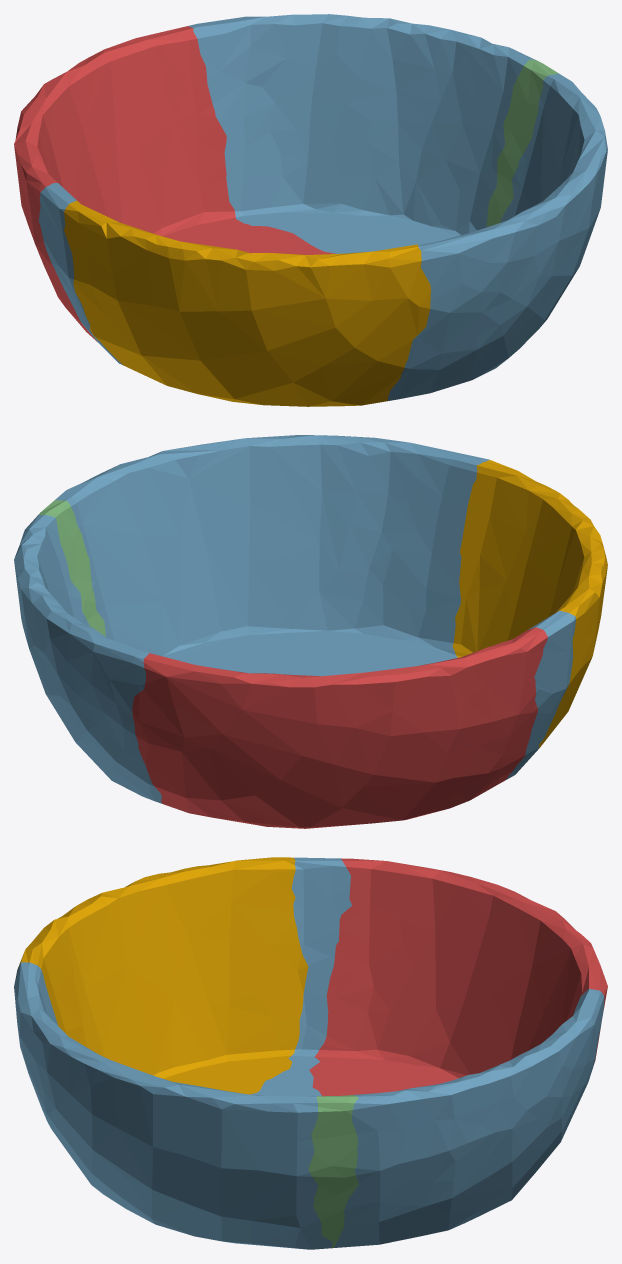
Rendered from fractured_2_4pcs.glb.
3 renders of one model, top to bottom at view 1: azimuth 30°, elevation 25°; view 2: azimuth 150°, elevation 25°; view 3: azimuth 270°, elevation 25°, orthographic.
Parts seen in each view (by area): view 1: piece_2.obj, piece_0.obj, piece_1.obj, piece_3.obj; view 2: piece_2.obj, piece_1.obj, piece_0.obj, piece_3.obj; view 3: piece_2.obj, piece_0.obj, piece_1.obj, piece_3.obj.
Boxes of the visible parts, x1,y1,x2,y2 form: piece_2.obj: (38, 14, 607, 401); piece_0.obj: (64, 200, 430, 406); piece_1.obj: (14, 26, 336, 342); piece_3.obj: (486, 59, 558, 227); piece_2.obj: (14, 435, 575, 803); piece_1.obj: (132, 627, 547, 828); piece_0.obj: (452, 460, 607, 748); piece_3.obj: (39, 500, 105, 636); piece_2.obj: (14, 857, 604, 1249); piece_0.obj: (18, 857, 308, 1094); piece_1.obj: (309, 858, 607, 1096); piece_3.obj: (308, 1095, 358, 1248).
Bounding box in the file's own units: 0.9983 × 0.33 × 1.
